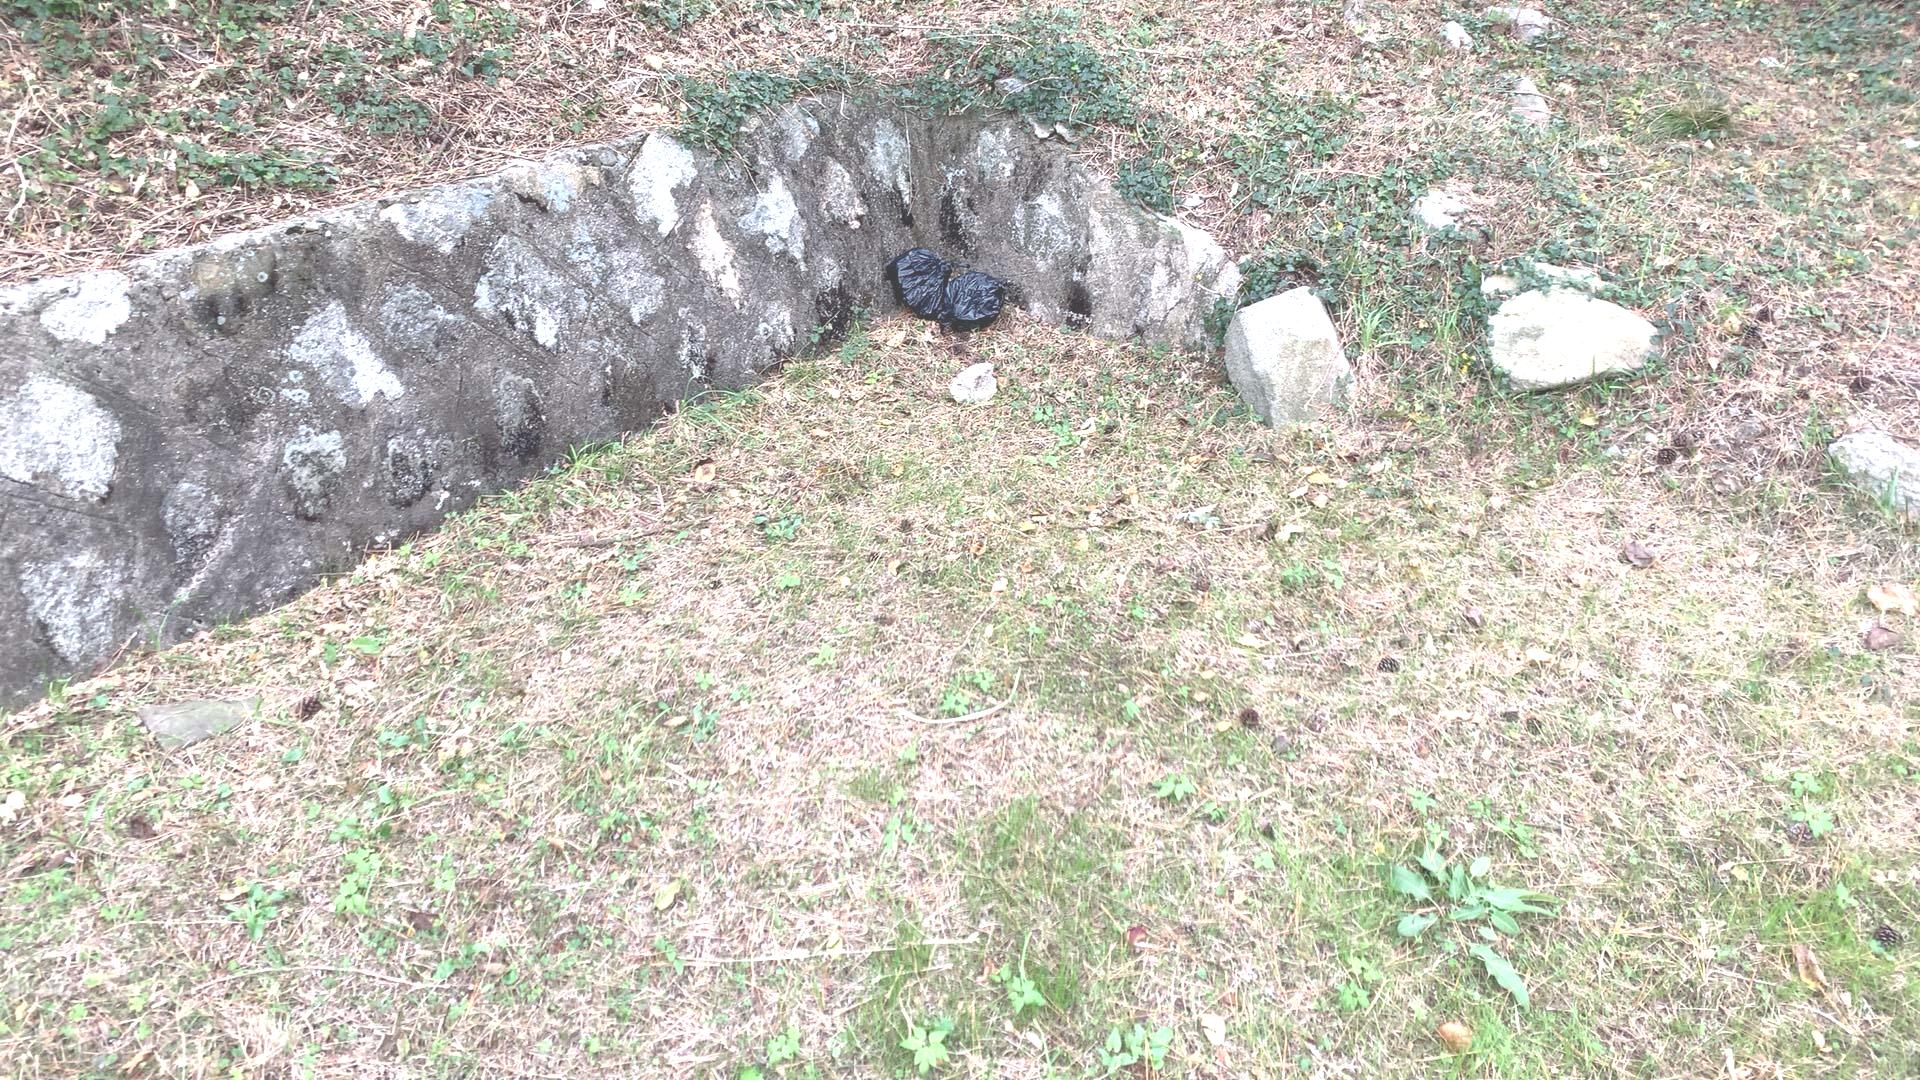black_bag: (882, 247, 971, 322), (938, 269, 1017, 332)
